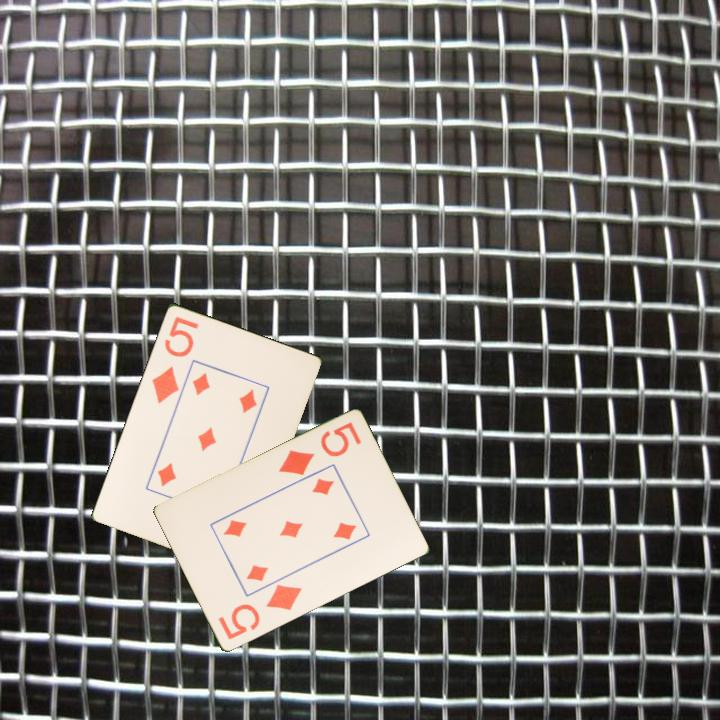5d: (214, 581, 305, 643), (275, 419, 364, 479), (148, 312, 201, 406)
